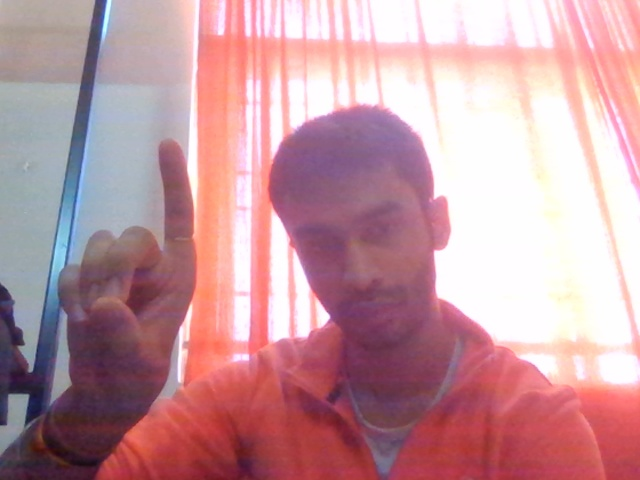D: (45, 129, 208, 433)
